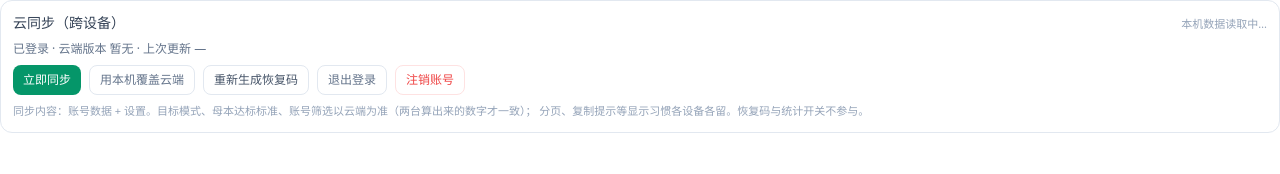
Test: 云同步面板（免密恢复码） › 立即同步：一条动作里拉云端再推回（云端还没有数据时把本机当第一份）
Click the button with test id "account-sync".
click(47, 80)  # box top-left (13, 65), bottom-right (81, 95)
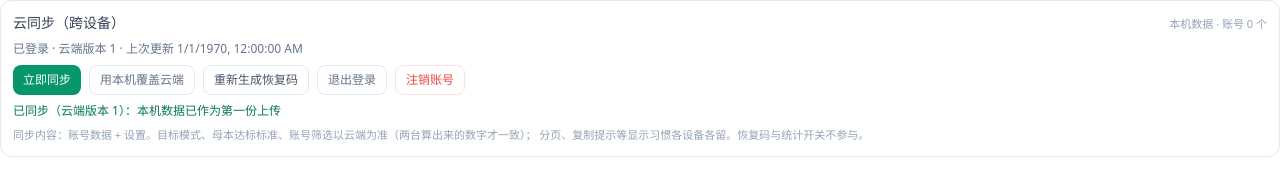
Expected: the text with test id "account-message" shows "已同步", top-left (13, 102), bottom-right (281, 119)
